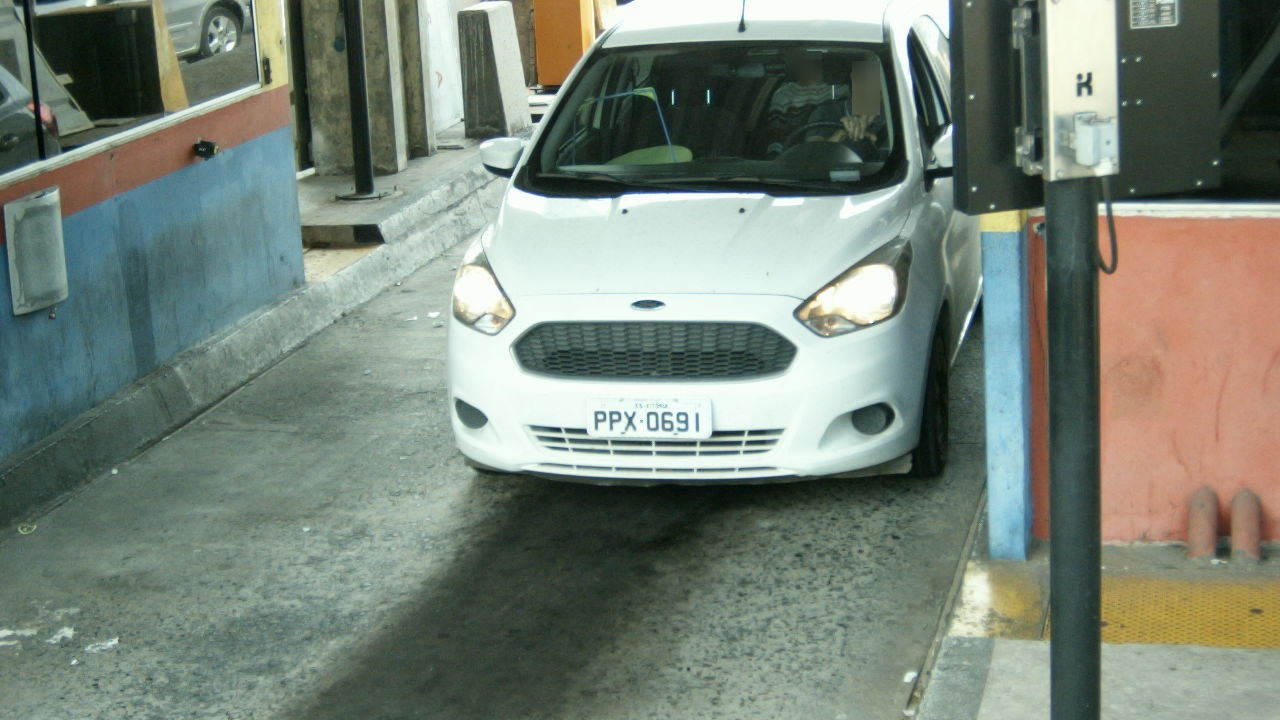placa: (587, 397, 712, 437)
